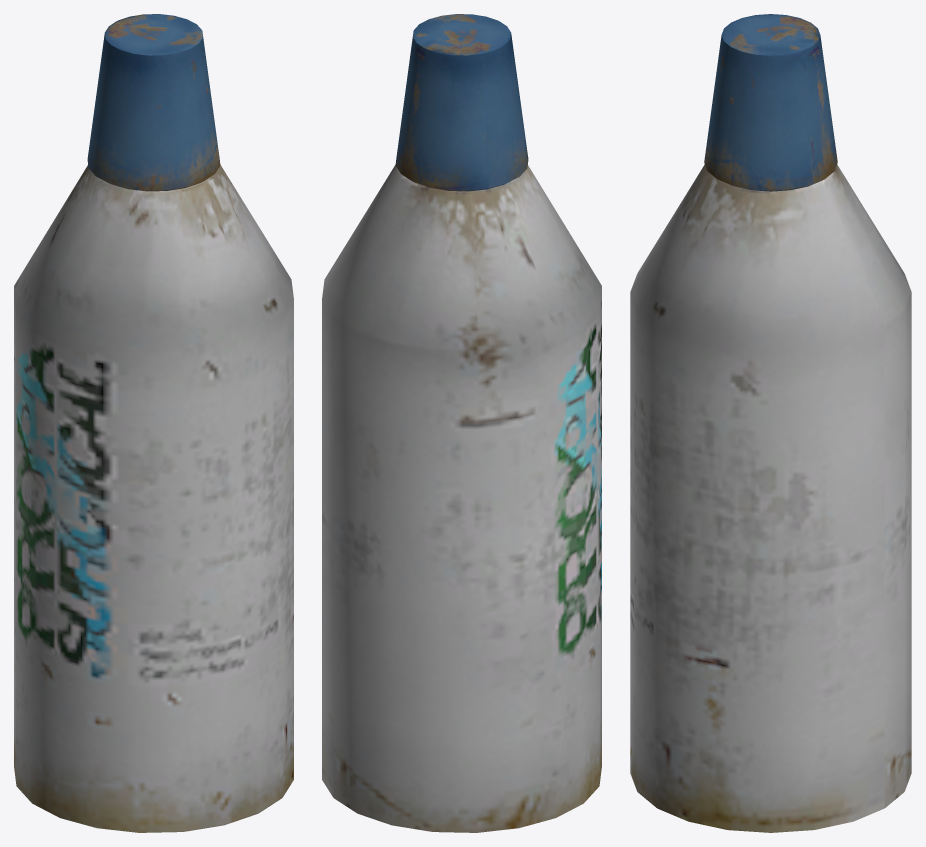
File: disinfectant.DAE
The picture shows the model from 3 angles, left to right: view 1: azimuth 30°, elevation 25°; view 2: azimuth 150°, elevation 25°; view 3: azimuth 270°, elevation 25°; orthographic projection.
Parts seen in each view (by area): view 1: disinfectant; view 2: disinfectant; view 3: disinfectant.
Boxes of the visible parts, x1,y1,x2,y2 form: disinfectant: (14, 14, 293, 832); disinfectant: (322, 14, 601, 832); disinfectant: (630, 14, 911, 832).
Size of the model in its own units: 0.1375 by 0.3995 by 0.1375.
